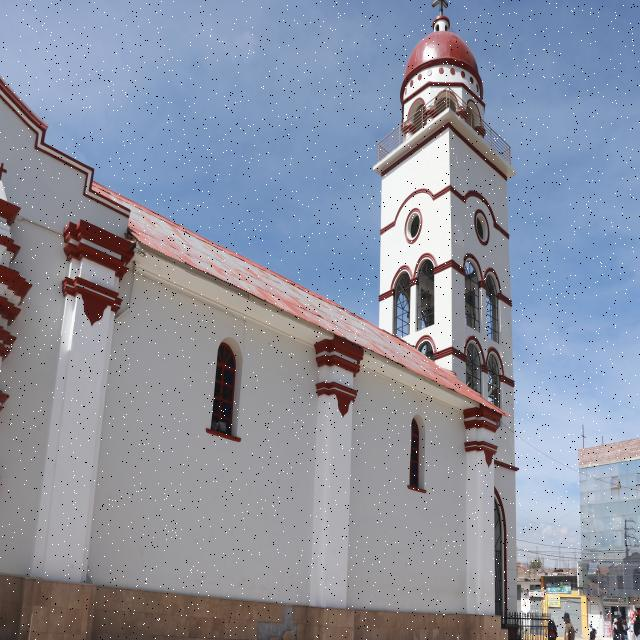CAMPANARIO: (371, 131, 522, 398)
CUPULA: (392, 12, 494, 144)
colonial-architecture-: (0, 0, 566, 640)
